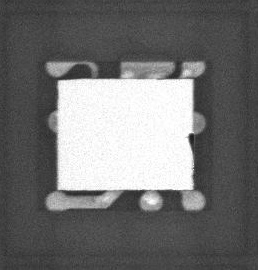DIE_BROKEN: (187, 130, 196, 155)
